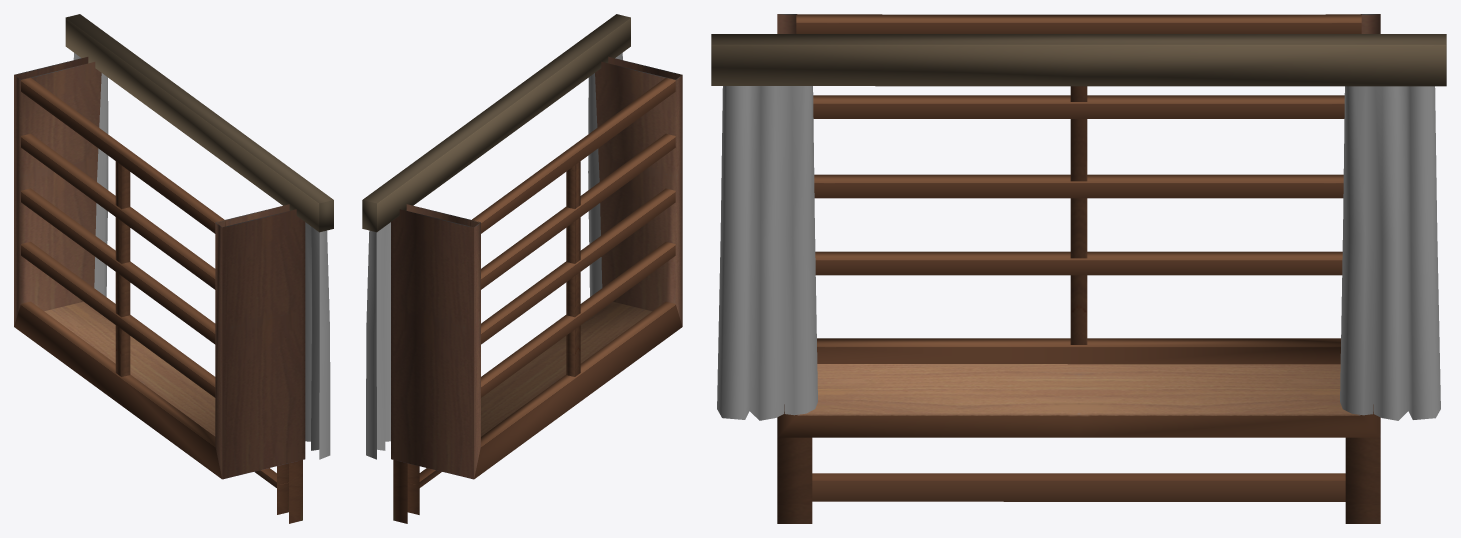
Rendered from jj-chuang.FBX.
3 renders of one model, left to right at view 1: azimuth 30°, elevation 25°; view 2: azimuth 150°, elevation 25°; view 3: azimuth 270°, elevation 25°, orthographic. The views are drawn at different scales.
Visible parts, largest first — view 1: jj-chuang1, jj-chuang_A; view 2: jj-chuang1, jj-chuang_A; view 3: jj-chuang1, jj-chuang_A.
Part boxes in pixels (left/top/right/bottom): jj-chuang1: left=14, top=14, right=333, bottom=523; jj-chuang_A: left=73, top=53, right=330, bottom=459; jj-chuang1: left=362, top=14, right=682, bottom=523; jj-chuang_A: left=366, top=53, right=622, bottom=459; jj-chuang1: left=711, top=14, right=1446, bottom=523; jj-chuang_A: left=717, top=86, right=1440, bottom=420.
Bounding box in the file's own units: 81.35 × 278 × 382.
